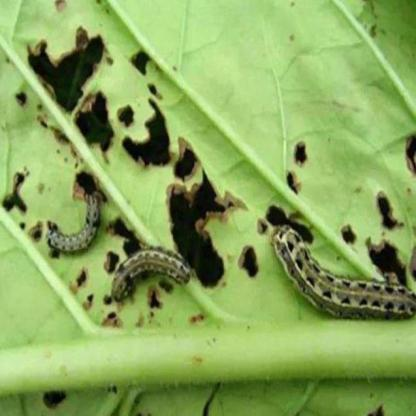armyworm: (273, 222, 416, 331), (110, 247, 196, 303), (42, 190, 104, 257)
